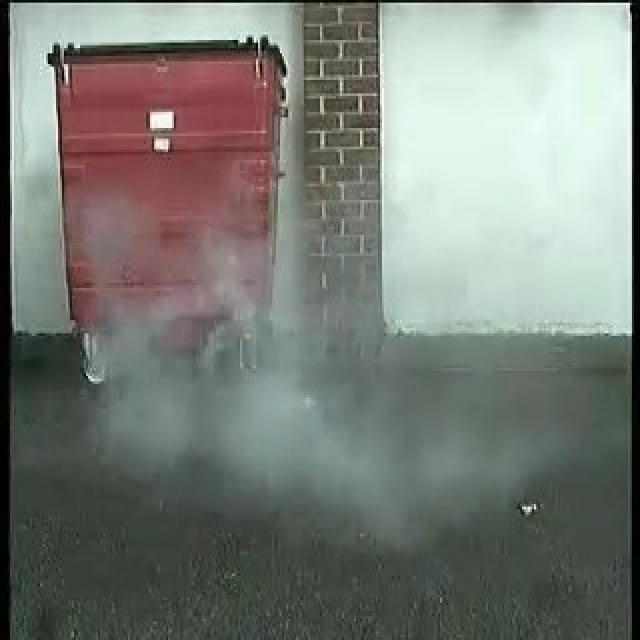smoke: (158, 259, 397, 480)
